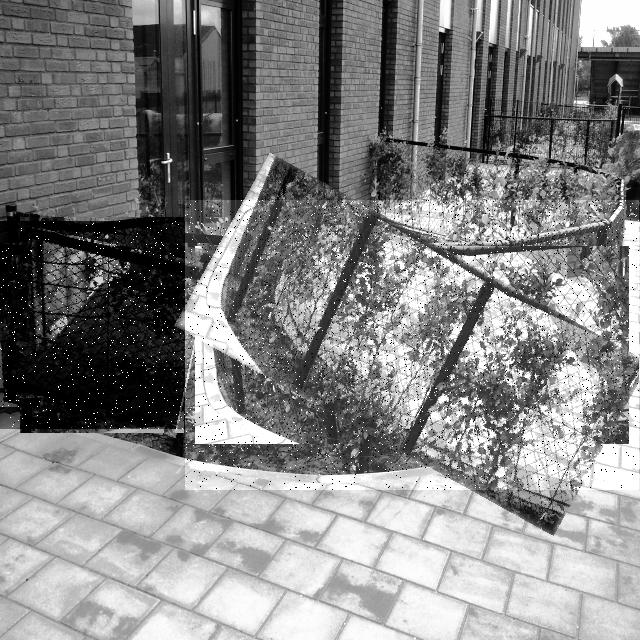fences: (185, 200, 639, 490), (0, 221, 205, 429)
